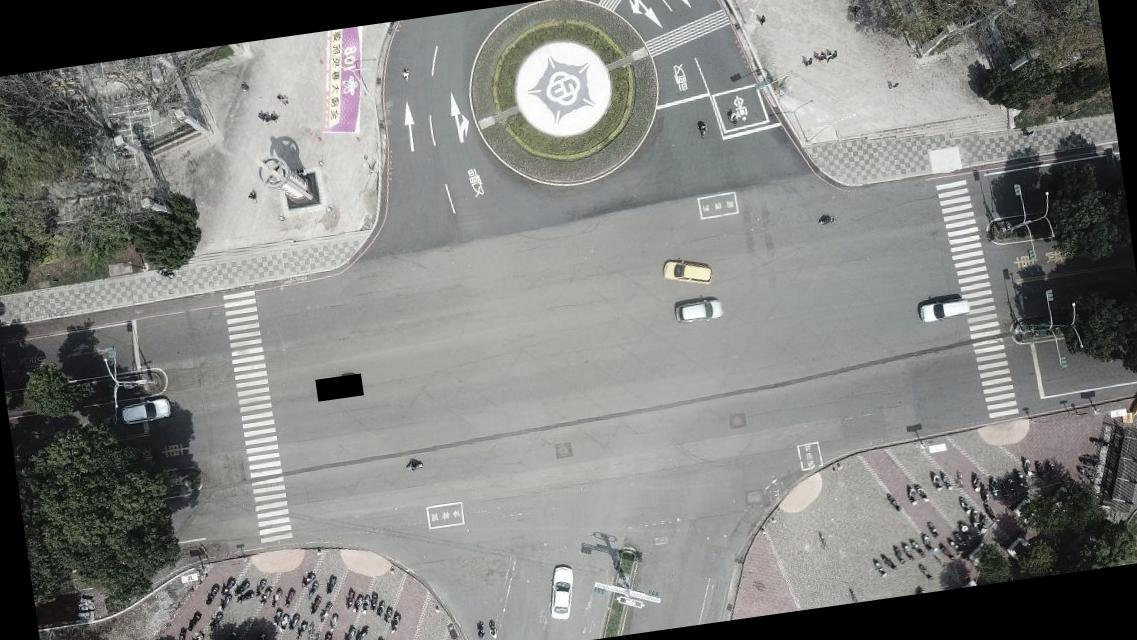vehicle: (542, 562, 580, 622), (660, 254, 716, 292), (672, 292, 726, 326), (120, 395, 174, 427), (917, 295, 973, 325)
